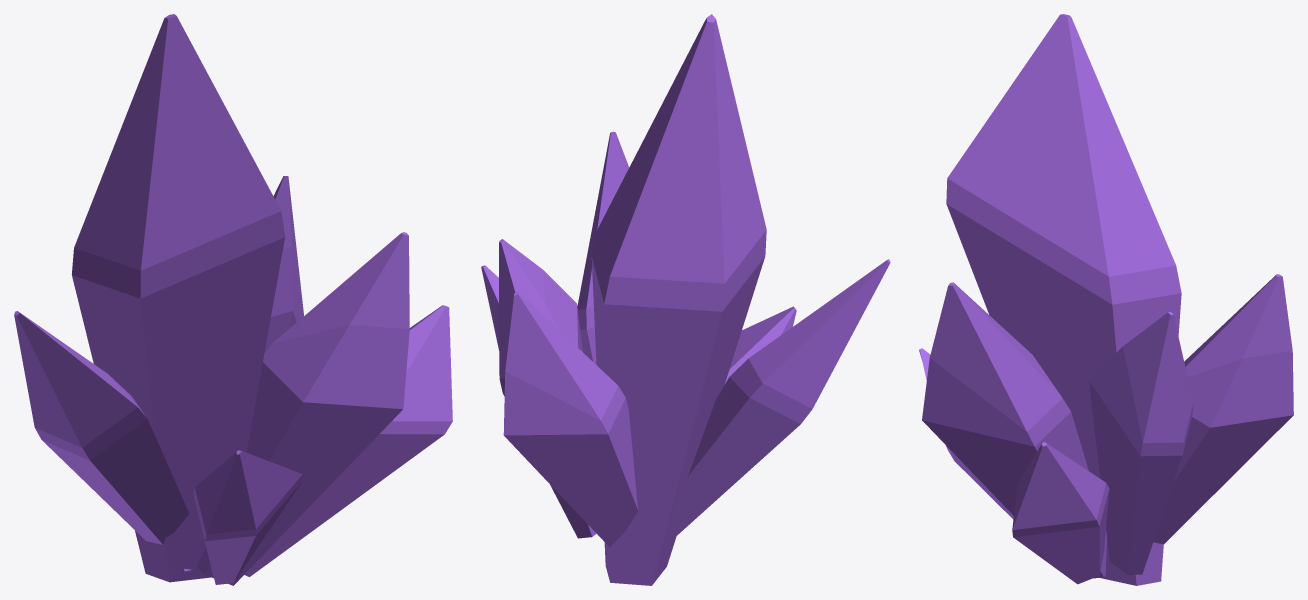
File: Crystal 1.fbx
3 renders of one model, left to right at view 1: azimuth 30°, elevation 25°; view 2: azimuth 150°, elevation 25°; view 3: azimuth 270°, elevation 25°, orthographic. The views are drawn at different scales.
Parts seen in each view (by area): view 1: Crystal 1; view 2: Crystal 1; view 3: Crystal 1.
Part boxes in pixels (x1=…): Crystal 1: x1=14, y1=14, x2=452, y2=585; Crystal 1: x1=481, y1=14, x2=890, y2=585; Crystal 1: x1=919, y1=14, x2=1293, y2=585.
Bounding box in the file's own units: 95.27 × 123 × 77.17.
